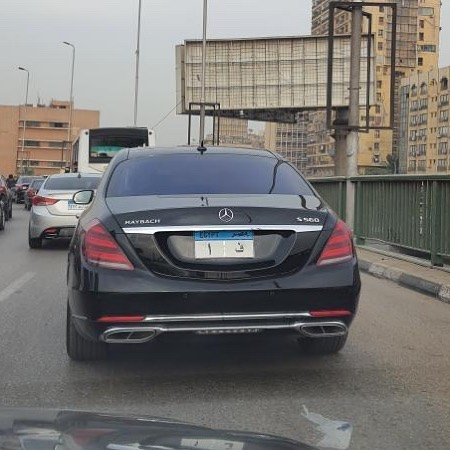carpl: (192, 229, 256, 257)
